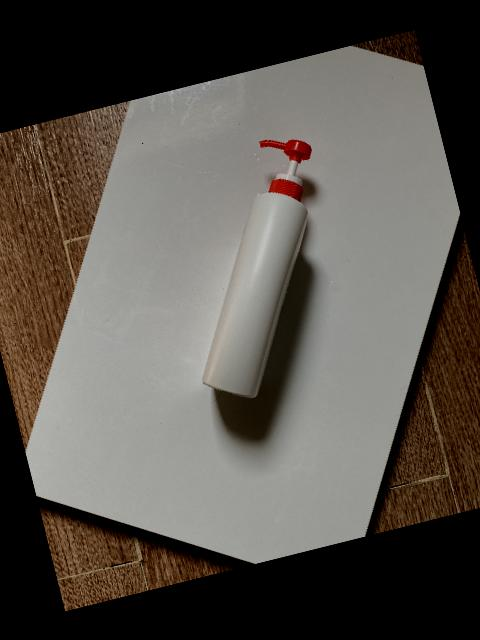life-buoy: (200, 139, 311, 399)
